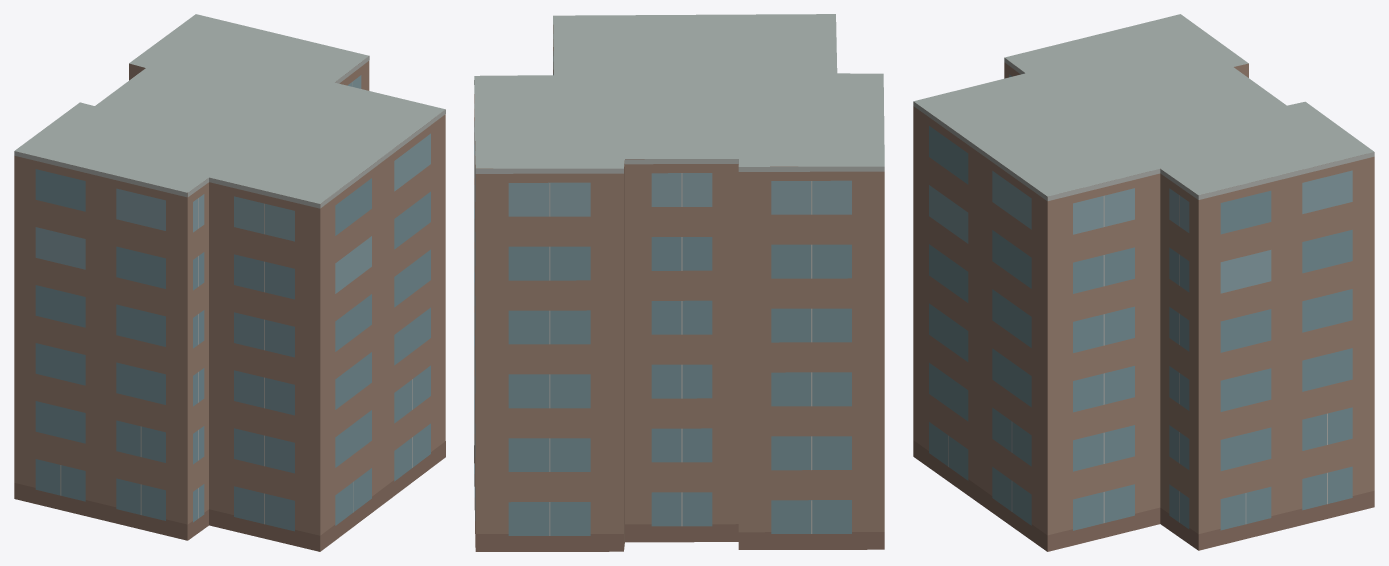
File: survey-upis-32975871.glb
3 views of the same model, side by side, from view 1: azimuth 30°, elevation 25°; view 2: azimuth 150°, elevation 25°; view 3: azimuth 270°, elevation 25° (orthographic). The views are drawn at different scales.
Visible parts, largest first — view 1: survey-upis-32975871.tmp; view 2: survey-upis-32975871.tmp; view 3: survey-upis-32975871.tmp.
Part boxes in pixels (x1,y1,x2,y2): survey-upis-32975871.tmp: [14, 14, 445, 551]; survey-upis-32975871.tmp: [474, 14, 884, 551]; survey-upis-32975871.tmp: [913, 14, 1374, 551].
Size of the model in its own units: 20.18 by 18.3 by 21.54.
